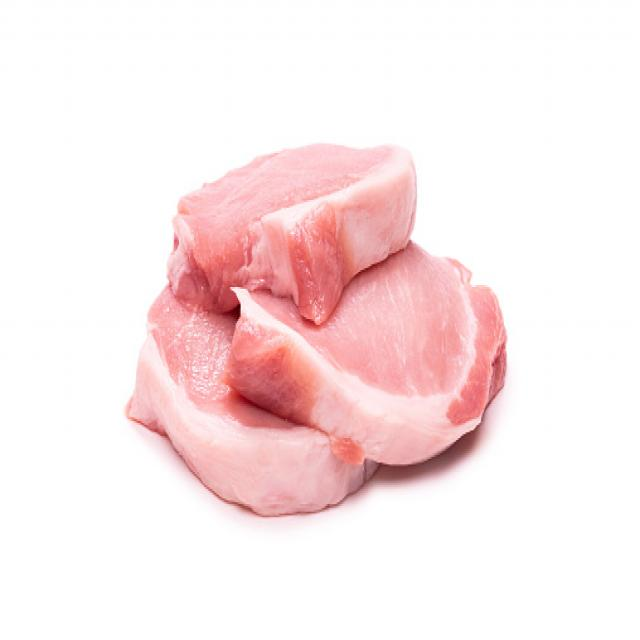Pork: (227, 242, 506, 464), (126, 287, 375, 515), (168, 143, 417, 324)
